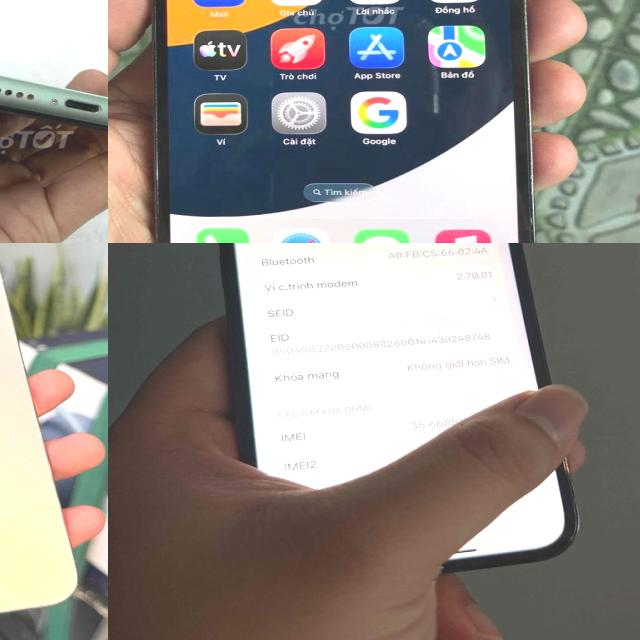gen_11: (0, 38, 108, 178)
gen_12_13: (208, 243, 587, 582), (139, 0, 537, 243)
gen_15: (0, 243, 79, 631)
